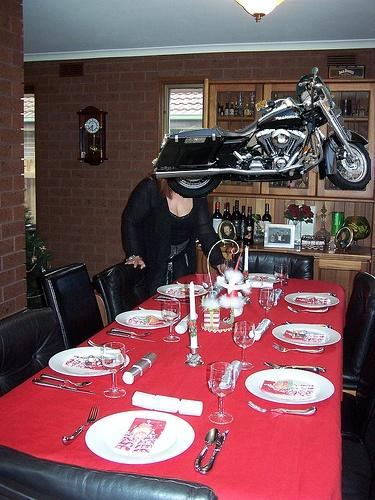tampered: (151, 68, 371, 198)
